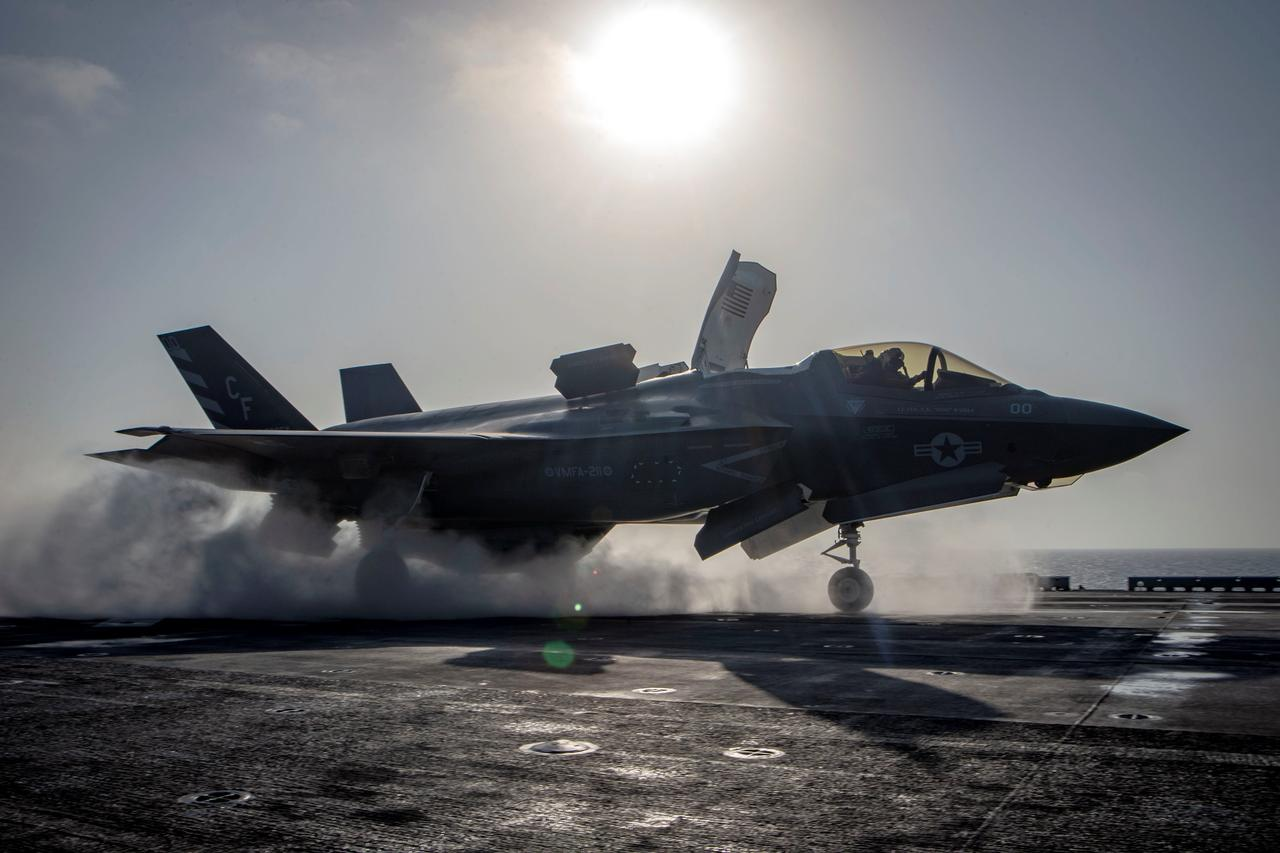F-35 Lightning: (47, 197, 1210, 677)
